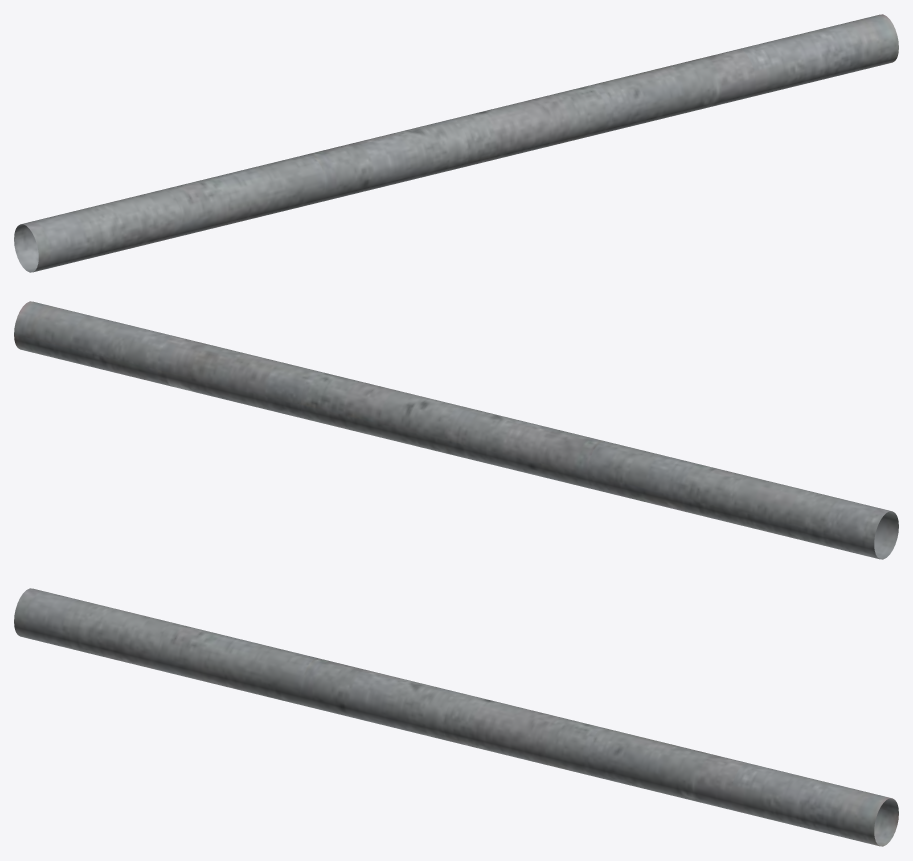
Rendered from modular_pipes.glb.
3 renders of one model, top to bottom at view 1: azimuth 30°, elevation 25°; view 2: azimuth 150°, elevation 25°; view 3: azimuth 330°, elevation 25°, orthographic.
Parts seen in each view (by area): view 1: modular_pipes; view 2: modular_pipes; view 3: modular_pipes.
Part boxes in pixels (bbox=[...]): modular_pipes: bbox=[14, 14, 898, 272]; modular_pipes: bbox=[14, 301, 898, 559]; modular_pipes: bbox=[14, 588, 898, 846].
Bounding box in the file's own units: 2 × 0.1 × 0.1.
Materials: 1 (1 with a texture image).
